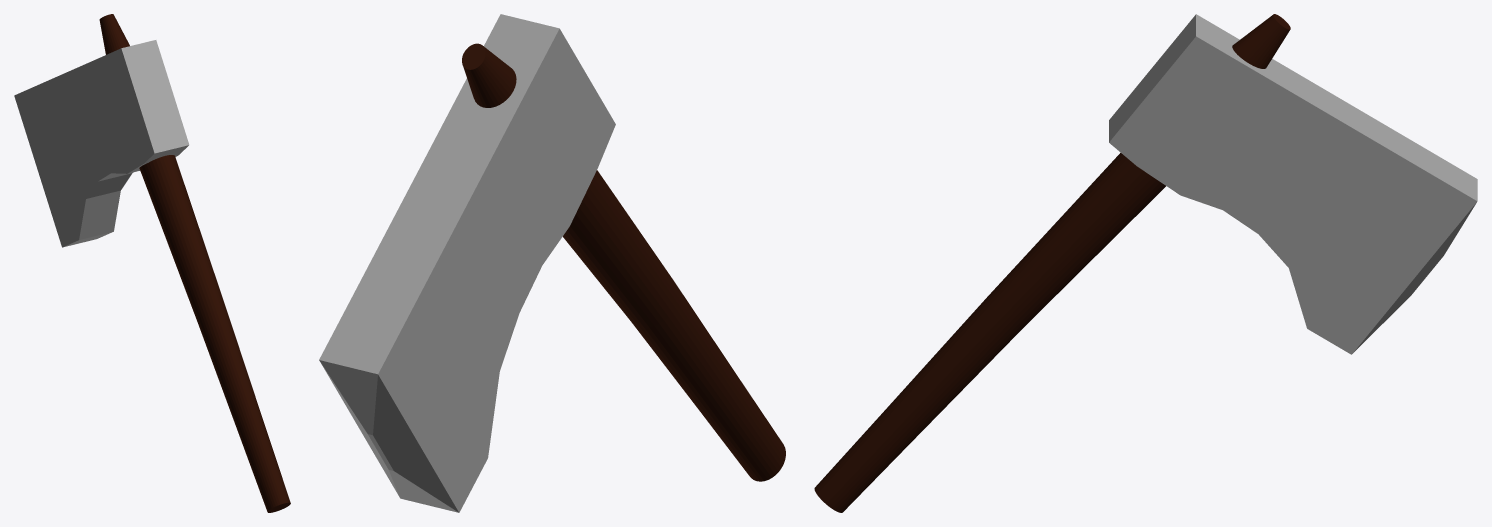
File: Axe.obj
The picture shows the model from 3 angles, left to right: view 1: azimuth 30°, elevation 25°; view 2: azimuth 150°, elevation 25°; view 3: azimuth 270°, elevation 25°; orthographic projection. The views are drawn at different scales.
Parts seen in each view (by area): view 1: Cylinder.002_Cylinder.003; view 2: Cylinder.002_Cylinder.003; view 3: Cylinder.002_Cylinder.003.
Boxes of the visible parts, x1,y1,x2,y2 form: Cylinder.002_Cylinder.003: (14, 14, 290, 512); Cylinder.002_Cylinder.003: (319, 14, 785, 512); Cylinder.002_Cylinder.003: (814, 14, 1477, 512).
Bounding box in the file's own units: 1.04 × 10.79 × 13.07.
